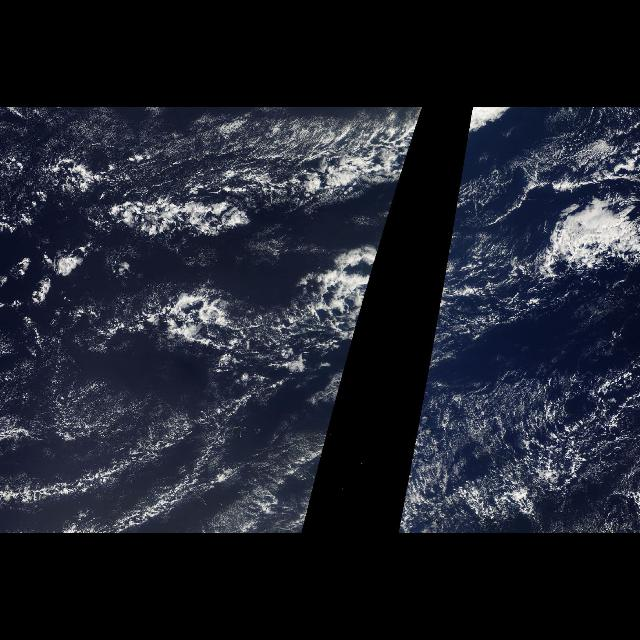Fish: (60, 124, 418, 290), (441, 147, 465, 290)
Gravel: (423, 340, 631, 522)
